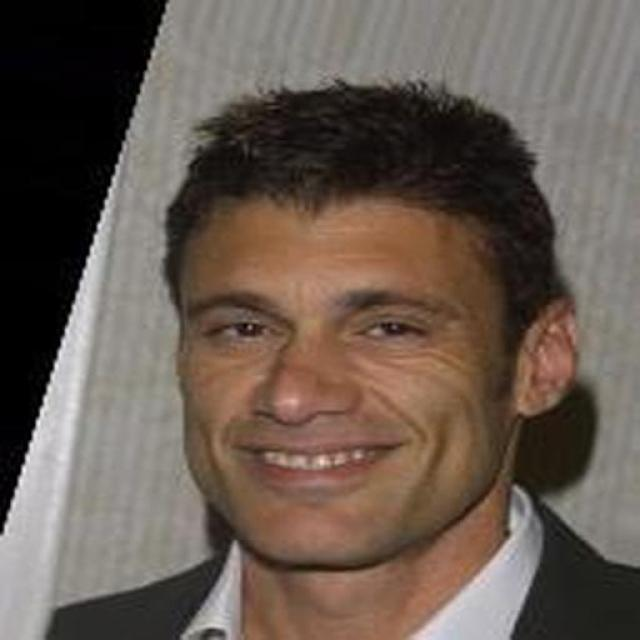bareface: (184, 109, 566, 528)
